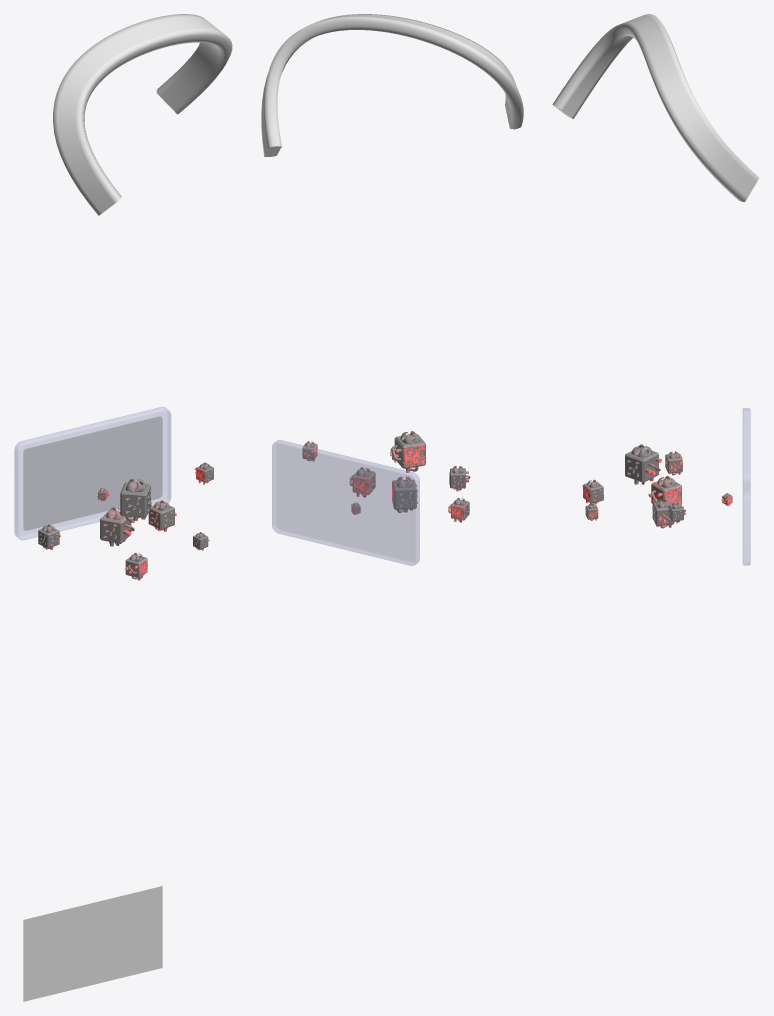
File: newworldorder.glb
The picture shows the model from 3 angles, left to right: view 1: azimuth 30°, elevation 25°; view 2: azimuth 150°, elevation 25°; view 3: azimuth 270°, elevation 25°; orthographic projection. The views are drawn at different scales.
Visible parts, largest first — view 1: TV_Glass, doplnej dna, GlassDesk pod, GlassDesk, Particles_Xelith_Obsah1; view 2: TV_Glass, doplnej dna, Particles_Xelith_Obsah1; view 3: doplnej dna, Particles_Xelith_Obsah1, TV_Glass.
Boxes of the visible parts, <box> form: TV_Glass: <box>14,407,170,539</box>; doplnej dna: <box>53,14,232,215</box>; GlassDesk pod: <box>23,886,162,1001</box>; GlassDesk: <box>23,416,162,530</box>; Particles_Xelith_Obsah1: <box>38,462,213,580</box>; TV_Glass: <box>272,440,419,565</box>; doplnej dna: <box>261,14,523,156</box>; Particles_Xelith_Obsah1: <box>302,431,470,522</box>; doplnej dna: <box>552,14,759,201</box>; Particles_Xelith_Obsah1: <box>582,444,732,528</box>; TV_Glass: <box>743,408,750,565</box>.
Size of the model in its own units: 3.07 by 13.31 by 2.67.
